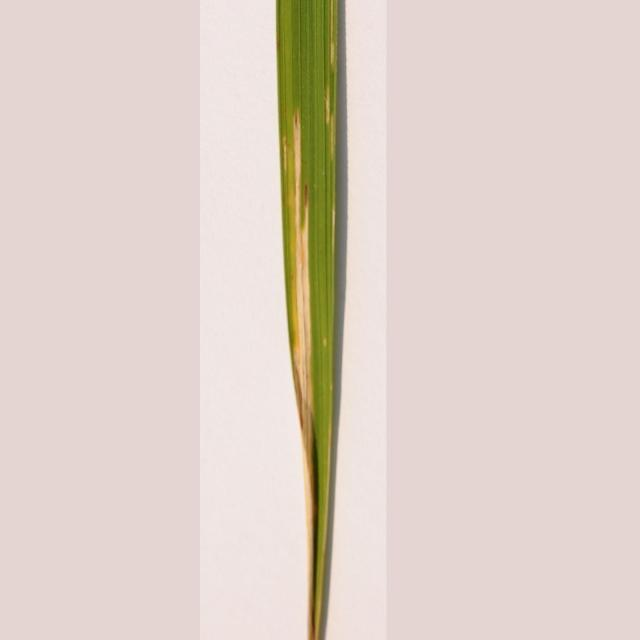Bacterial leaf blight: (204, 3, 386, 640)
